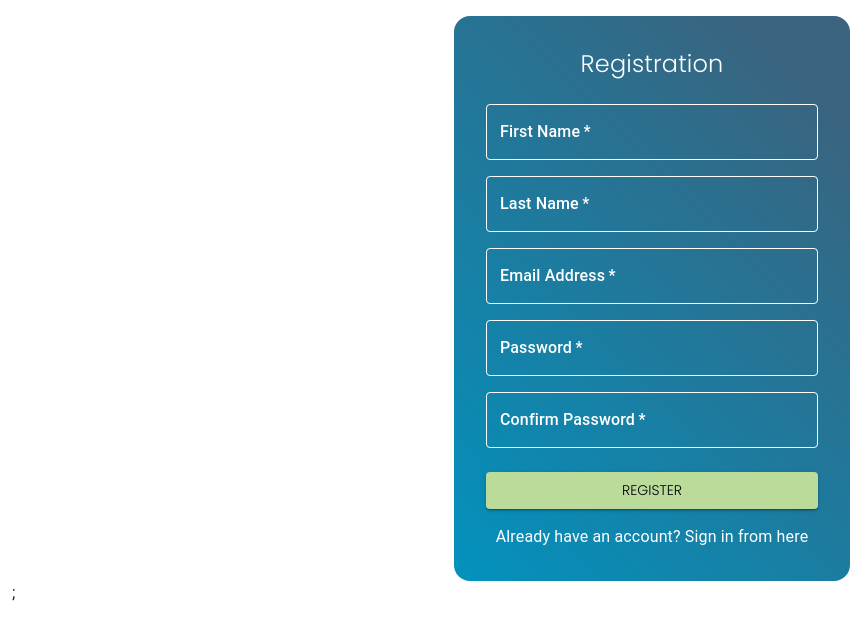
Test: shows error message If first name not entered
The image size is (867, 642).
Type "test-name" into the field labelled "Last Name *" at (652, 204), box [486,176,818,232]
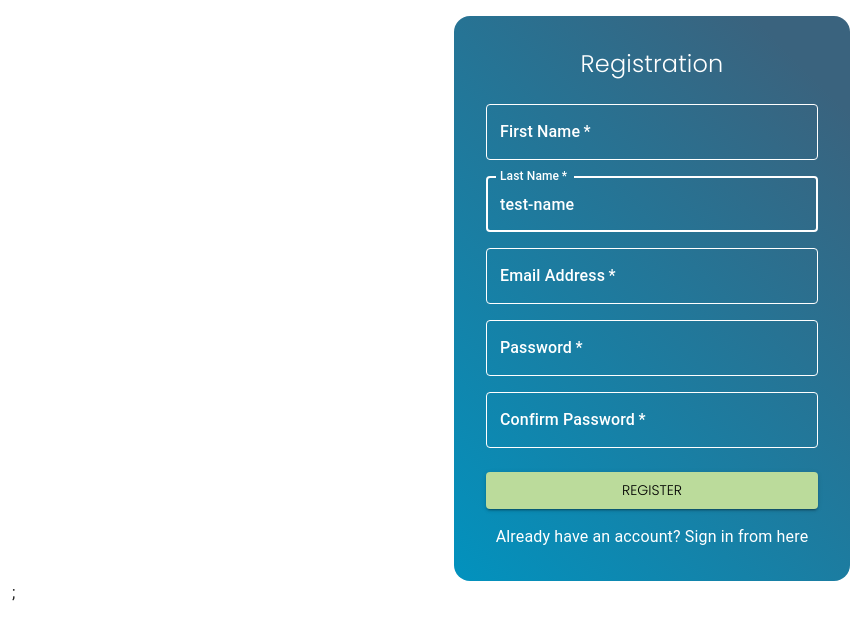
Type "test@gmail.com" into the field labelled "Email Address *" at (652, 276), box [486,248,818,304]
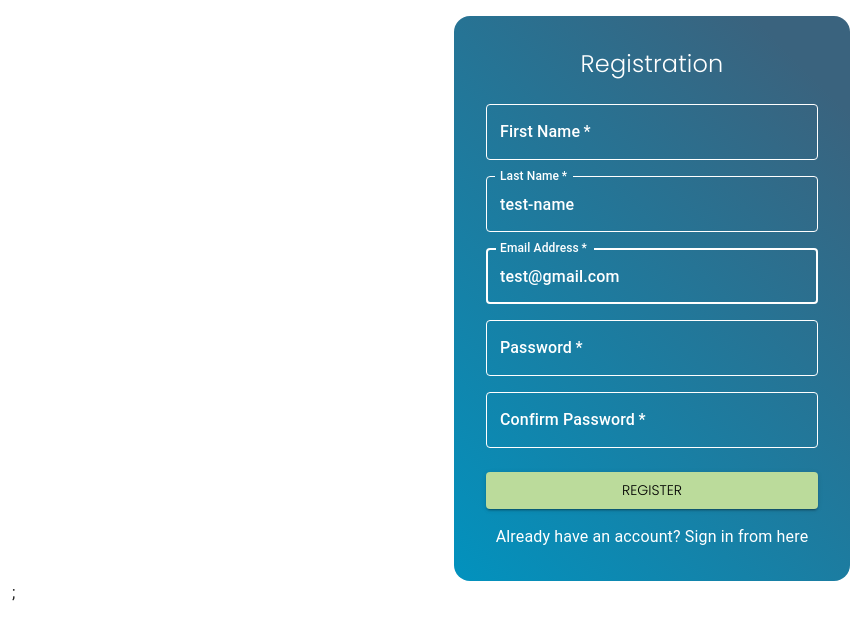
Type "test1234" into the password field with test id "password" at (652, 348), box [486,320,818,376]
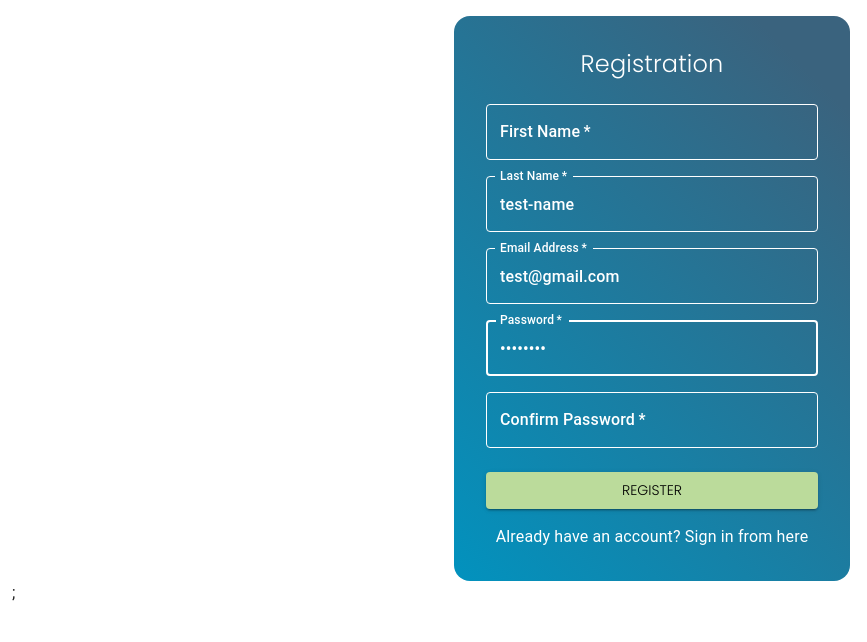
Type "test1234" into the password field with test id "re_password" at (652, 420), box [486,392,818,448]
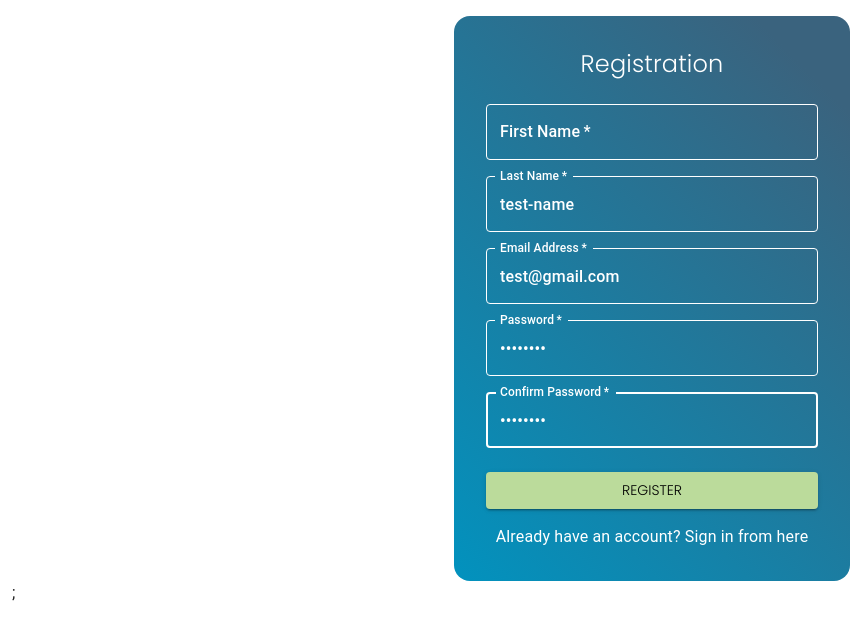
Click the button "Register" at (652, 490), box [486,472,818,508]
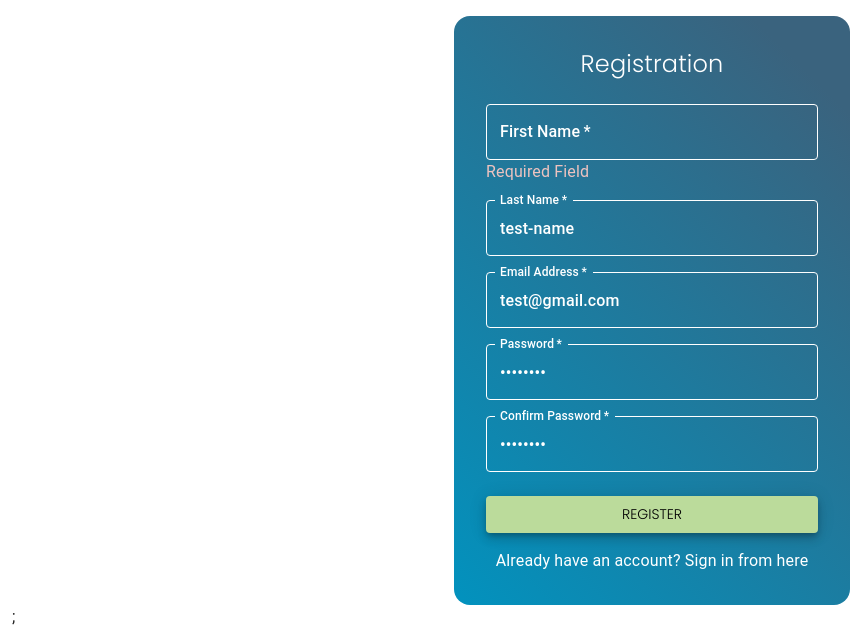
Check: the text with test id "err-firstname" reads "Required Field", box [486,162,589,181]
